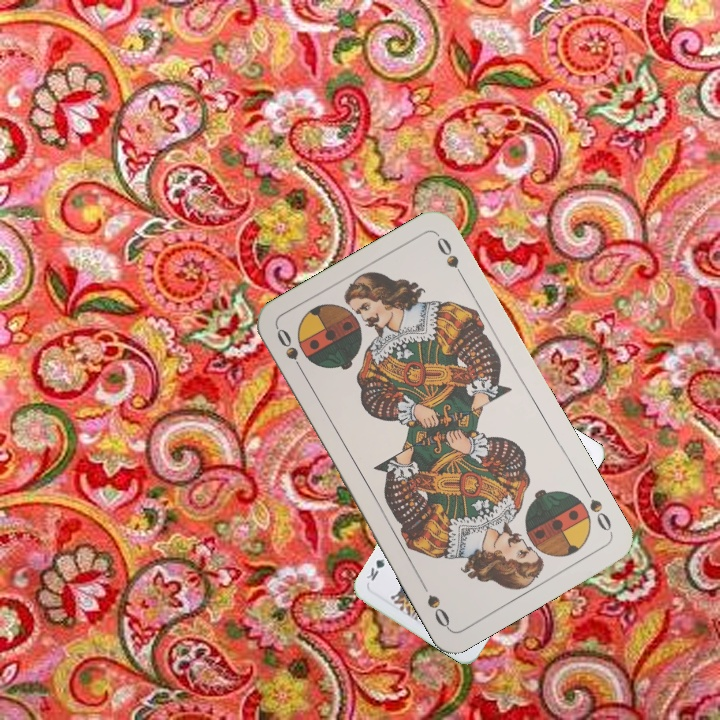SO: (272, 324, 308, 379), (579, 482, 615, 536)
